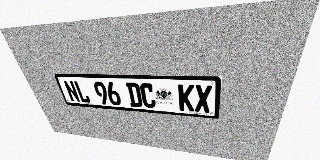6: (104, 82, 122, 106)
9: (92, 81, 110, 105)
C: (139, 83, 156, 108)
D: (125, 82, 143, 107)
K: (178, 84, 194, 112)
L: (73, 81, 91, 103)
N: (62, 80, 81, 102)
X: (195, 85, 212, 113)
